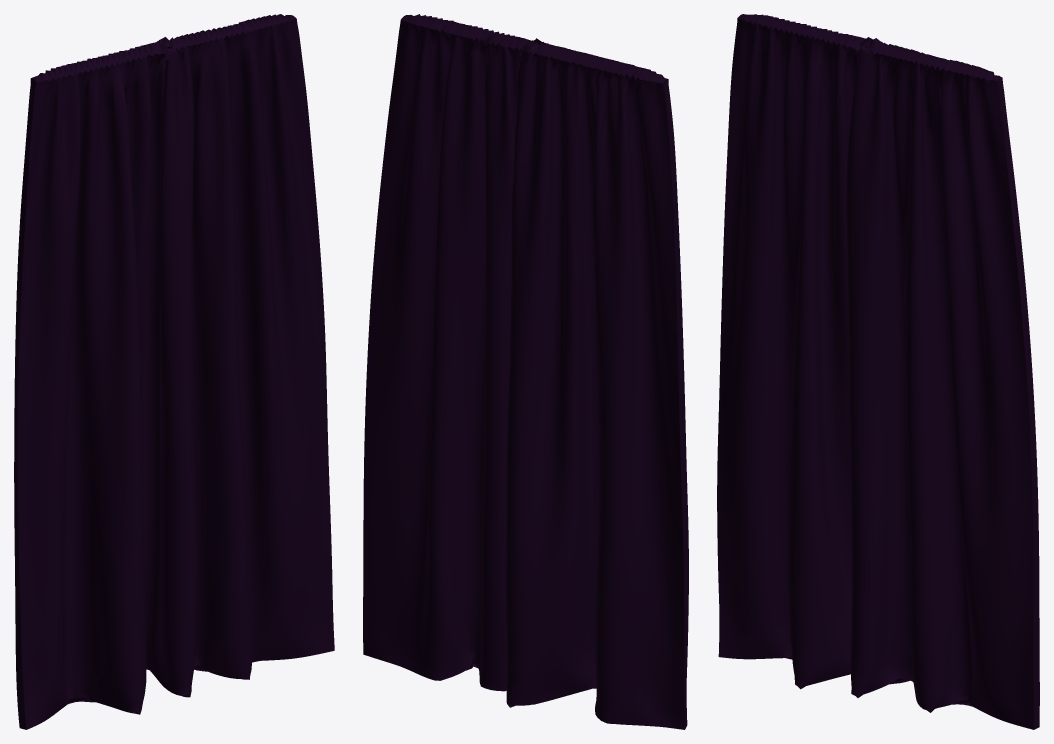
Rendered from black curtain.fbx.
3 views of the same model, side by side, from view 1: azimuth 30°, elevation 25°; view 2: azimuth 150°, elevation 25°; view 3: azimuth 330°, elevation 25° (orthographic).
Parts seen in each view (by area): view 1: yellow_curtain3; view 2: yellow_curtain3; view 3: yellow_curtain3.
Boxes of the visible parts, box(x1,y1,x2,y2) form: yellow_curtain3: box(14, 14, 334, 729); yellow_curtain3: box(363, 14, 688, 729); yellow_curtain3: box(717, 14, 1039, 729).
Bounding box in the file's own units: 29.1 × 57.25 × 7.44.
